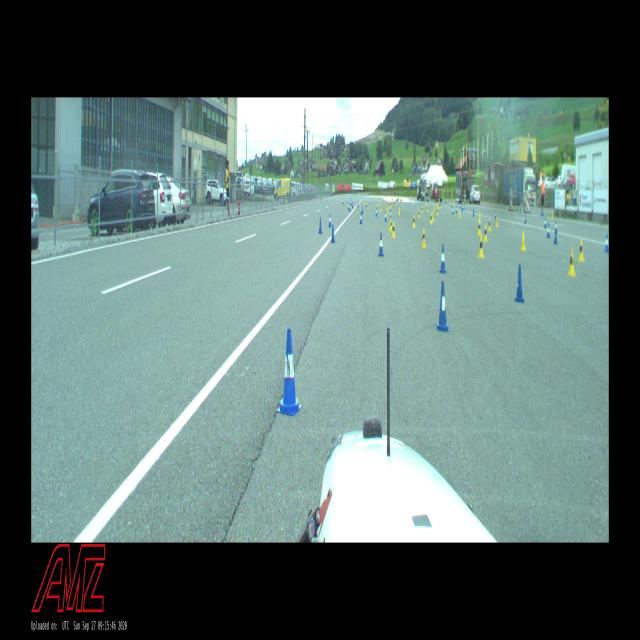blue_cone: (276, 328, 302, 417), (435, 281, 450, 333), (514, 264, 524, 303), (439, 244, 446, 274), (378, 232, 384, 258), (330, 223, 336, 243), (604, 233, 609, 253), (318, 217, 322, 234), (546, 223, 550, 239), (554, 228, 558, 244), (328, 213, 332, 227), (554, 220, 558, 234), (544, 216, 547, 229), (384, 210, 387, 222), (375, 207, 378, 217), (524, 213, 527, 223), (360, 212, 362, 226), (390, 209, 392, 220), (362, 205, 364, 214), (349, 203, 351, 212), (357, 200, 359, 208), (452, 207, 454, 215), (348, 202, 349, 210)
yellow_cone: (568, 248, 576, 277), (478, 235, 484, 258), (578, 240, 584, 262), (520, 232, 526, 251), (421, 228, 426, 248), (483, 224, 488, 242), (392, 221, 396, 239), (477, 218, 481, 236), (412, 214, 416, 228), (429, 212, 433, 225), (389, 217, 392, 232), (488, 218, 491, 231), (379, 203, 382, 212), (398, 207, 401, 216), (496, 215, 498, 228), (421, 205, 423, 214), (418, 209, 420, 218), (436, 207, 438, 216), (390, 201, 392, 207), (364, 199, 366, 204), (366, 199, 368, 203), (389, 201, 390, 209), (427, 205, 428, 212)
